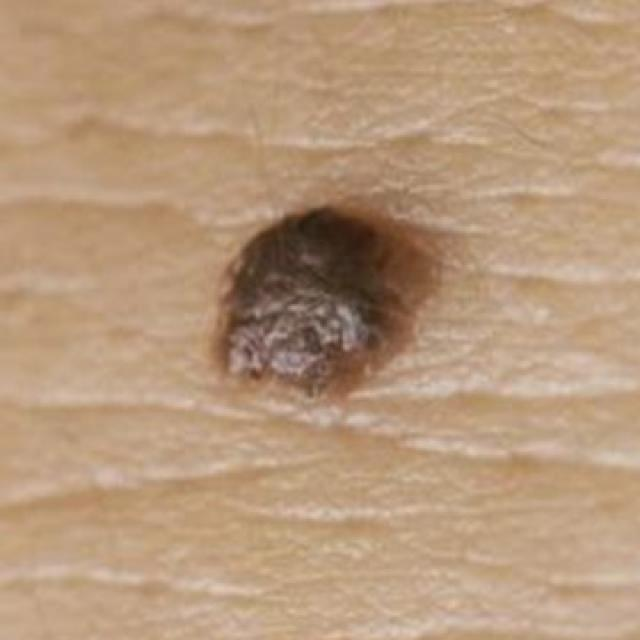wart: (198, 190, 406, 395)
